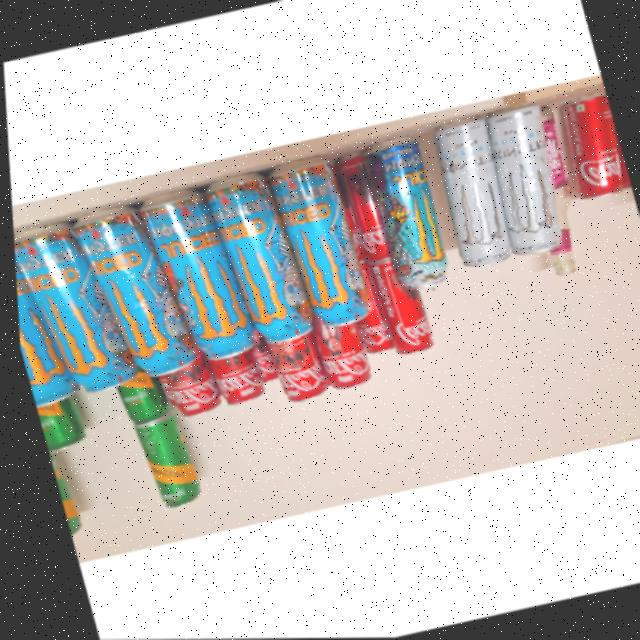Coca Cola: (557, 96, 626, 198), (596, 99, 628, 190), (333, 172, 360, 261)
Coca Cola - Marvel: (336, 153, 386, 261), (311, 322, 370, 394), (264, 336, 321, 402), (374, 286, 428, 350), (202, 350, 259, 406), (162, 365, 213, 415), (351, 311, 389, 351)
Monster Aussie Lemonade: (359, 134, 450, 289)
Monster Mango Loco: (75, 205, 191, 375), (15, 219, 127, 393), (141, 196, 251, 353), (265, 160, 364, 327), (203, 181, 310, 335), (11, 240, 69, 404)
Schweppes: (128, 417, 196, 504), (30, 395, 81, 451), (114, 373, 163, 425), (44, 456, 74, 538)
White Monster: (425, 116, 516, 267), (474, 108, 566, 250)
